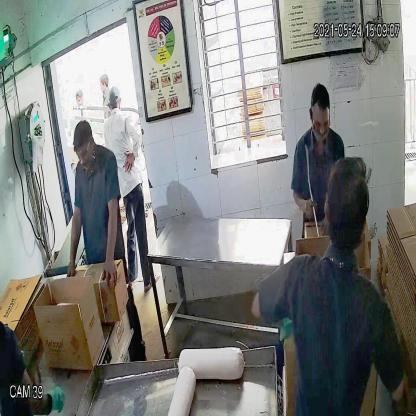goggles: (74, 139, 96, 162)
